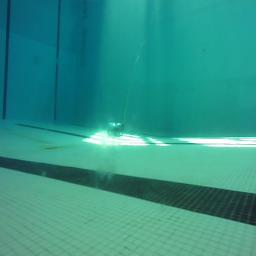Full: (107, 120, 124, 137)
